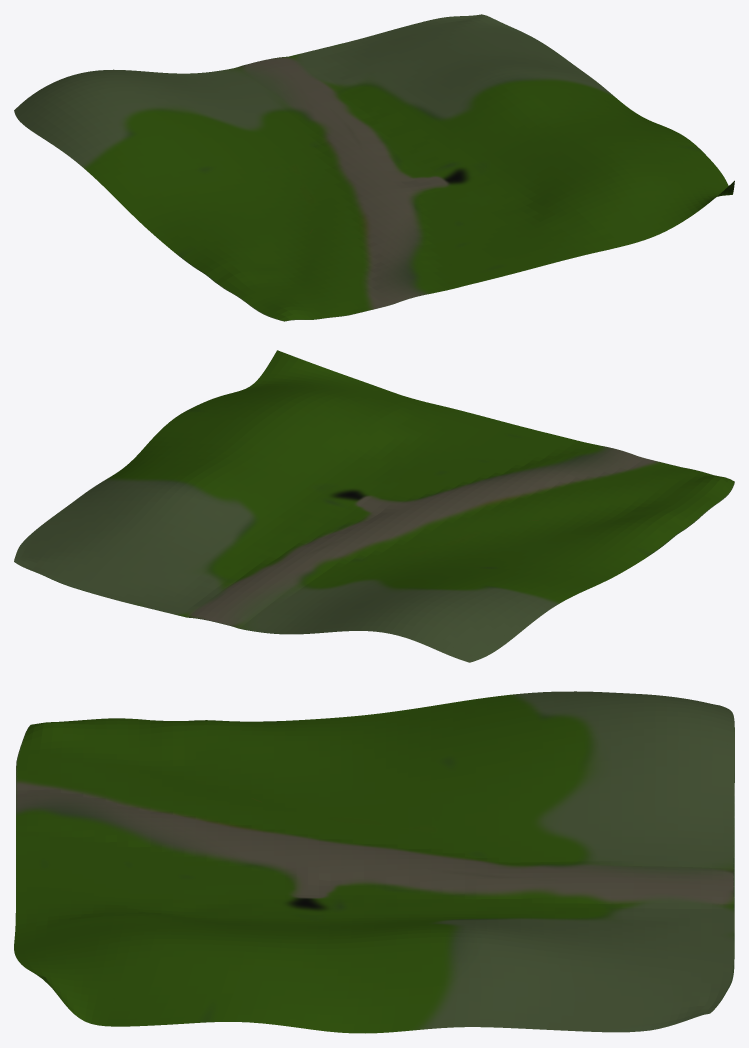
The model's file is Area 1 Map V2.fbx.
The picture shows the model from 3 angles, top to bottom: view 1: azimuth 30°, elevation 25°; view 2: azimuth 150°, elevation 25°; view 3: azimuth 270°, elevation 25°; orthographic projection. The views are drawn at different scales.
Parts seen in each view (by area): view 1: Area 1; view 2: Area 1; view 3: Area 1.
Boxes of the visible parts, <box> form: Area 1: <box>14,14,734,321</box>; Area 1: <box>14,350,734,662</box>; Area 1: <box>14,691,734,1033</box>.
Size of the model in its own units: 30756 by 30101 by 2592.
